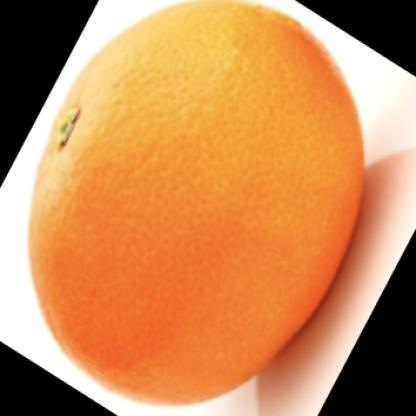fresh: (32, 2, 367, 405)
